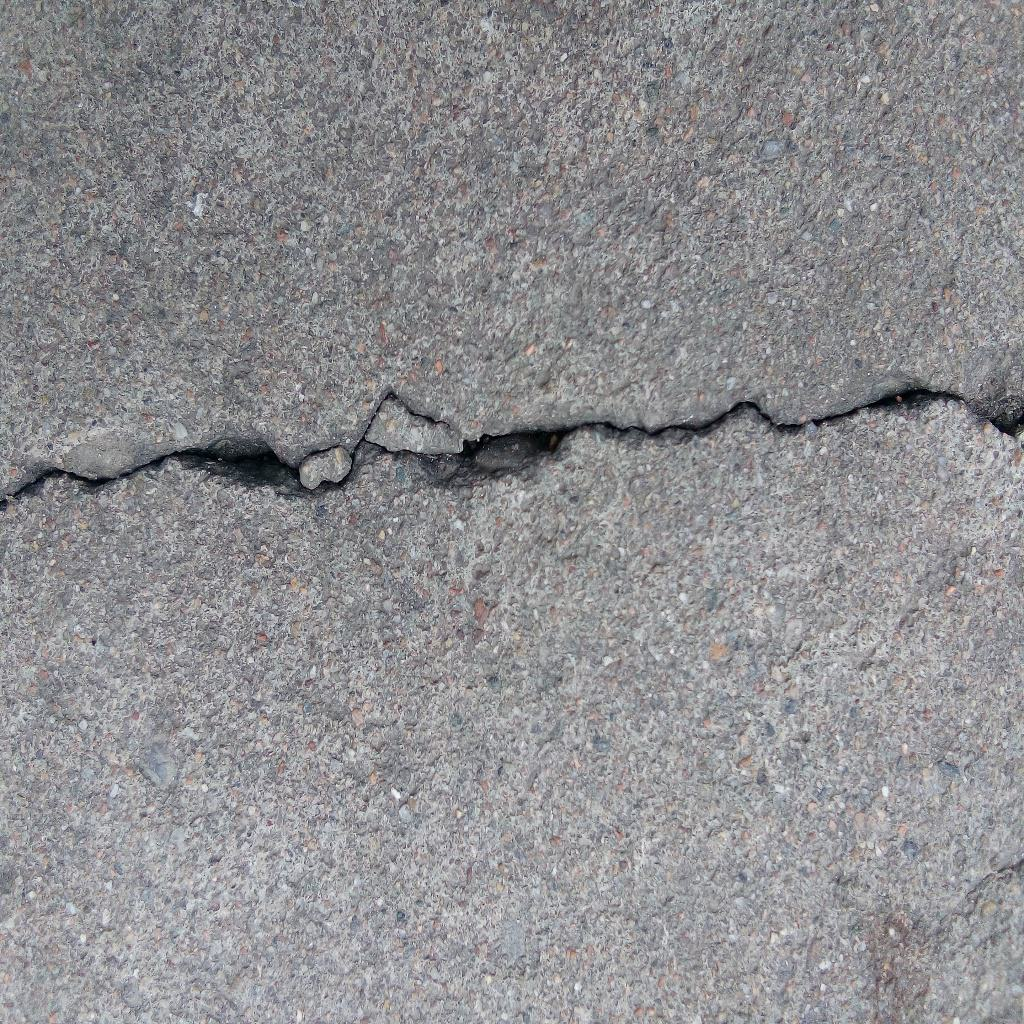Crack: (1, 381, 1024, 516)
